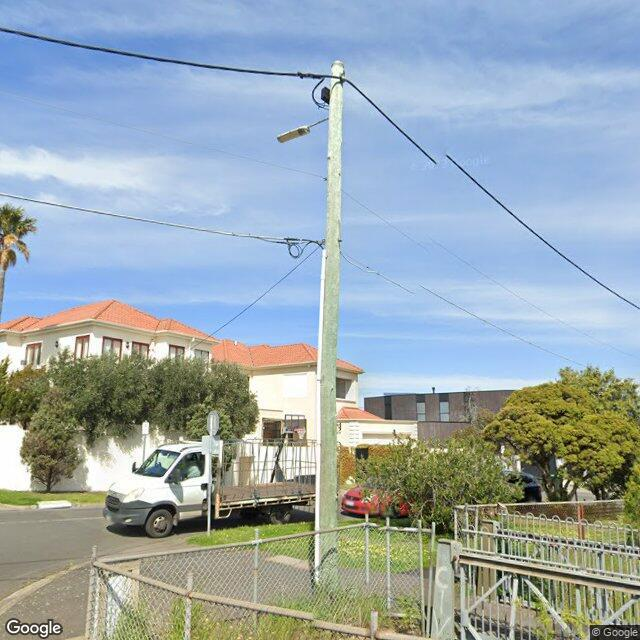streetlight: (278, 115, 330, 144)
timber-pole: (313, 58, 346, 588)
